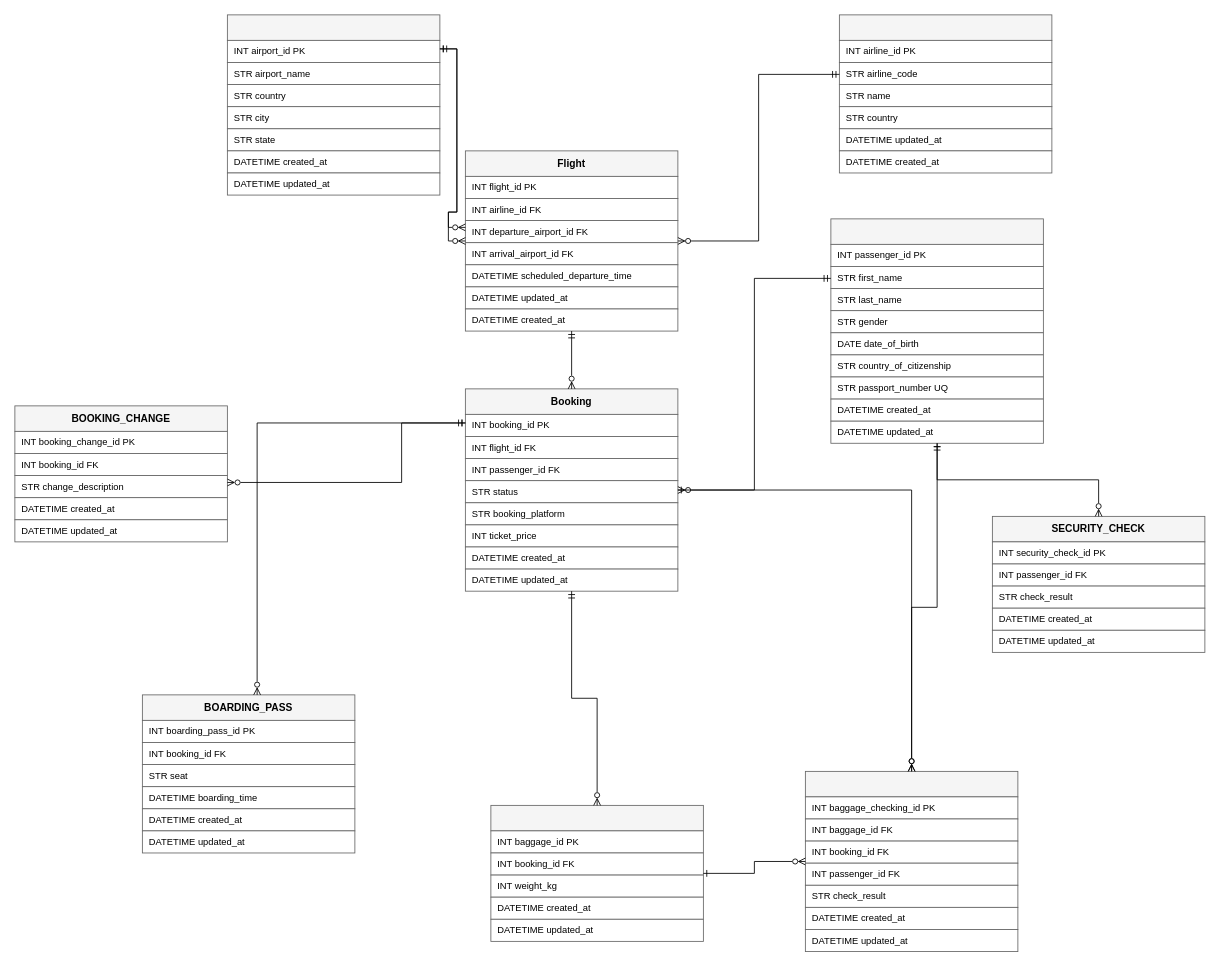
The diagram is 1220 pixels wide and 966 high, and some of its shapes have lost their labels. The shapes that lost their labels are listed below. From the top down, each one's centre as x and y in pixels, then its label:
the point at 333,27: Airport
the point at 945,27: Airline
the point at 936,231: Passenger
the point at 911,784: BAGGAGE_CHECK
the point at 596,818: BAGGAGE
